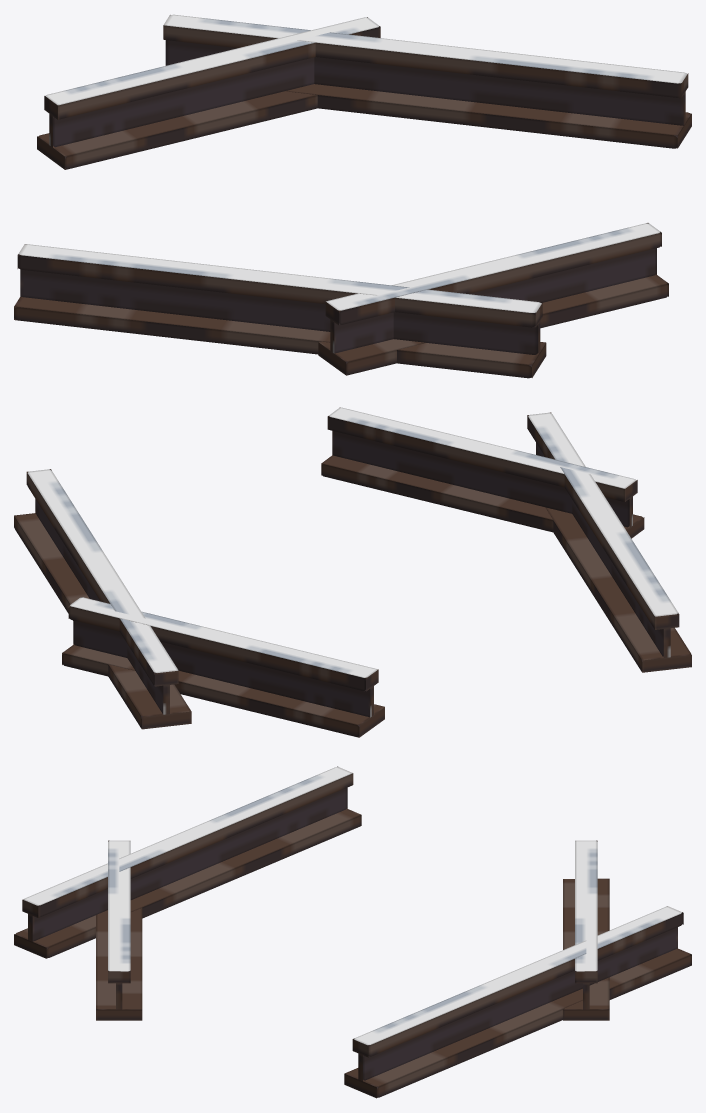
The model's file is cross_d1_xo.obj.
3 views of the same model, one above another, from view 1: azimuth 30°, elevation 25°; view 2: azimuth 150°, elevation 25°; view 3: azimuth 270°, elevation 25° (orthographic). The views are drawn at different scales.
Visible parts, largest first — view 1: cube; view 2: cube; view 3: cube.
Boxes of the visible parts, x1=… form: cube: x1=14, y1=14, x2=691, y2=378; cube: x1=14, y1=407, x2=691, y2=737; cube: x1=14, y1=766, x2=691, y2=1098.
Bounding box in the file's own units: 2.19 × 0.1759 × 2.19.
